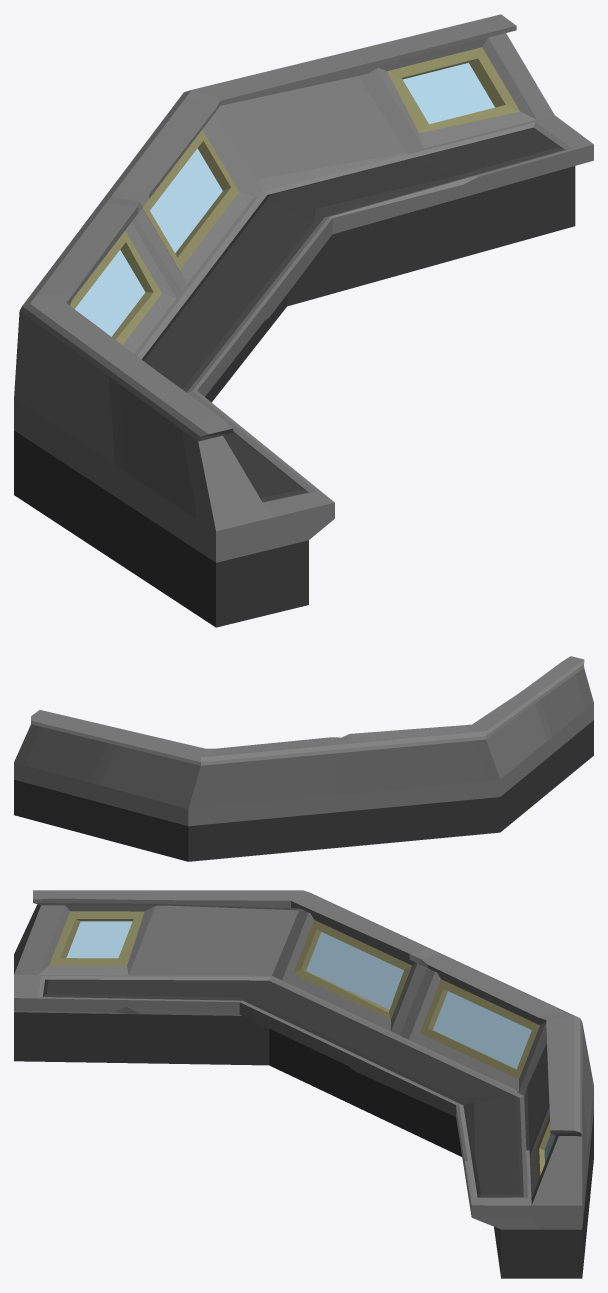
File: DashBoard.fbx
3 renders of one model, top to bottom at view 1: azimuth 30°, elevation 25°; view 2: azimuth 150°, elevation 25°; view 3: azimuth 270°, elevation 25°, orthographic. The views are drawn at different scales.
Parts seen in each view (by area): view 1: Cube; view 2: Cube; view 3: Cube.
Boxes of the visible parts, x1,y1,x2,y2 form: Cube: [14, 14, 593, 627]; Cube: [14, 656, 593, 861]; Cube: [14, 890, 593, 1278].
Bounding box in the file's own units: 2251 × 574 × 2144.
